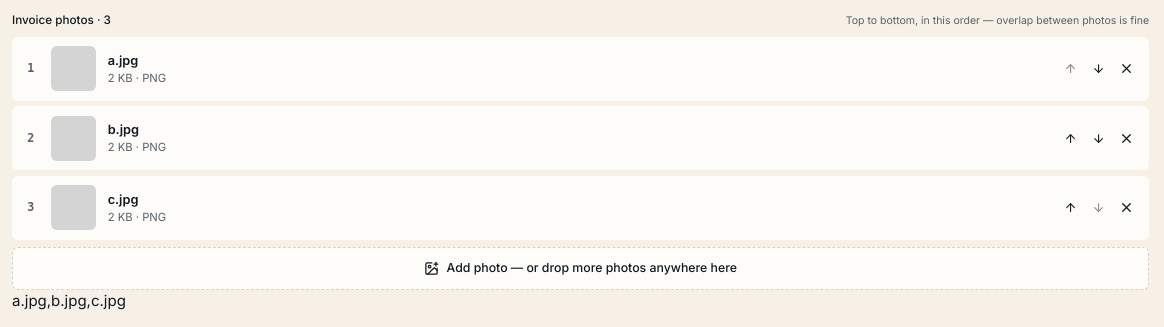
it: multi-photo intake › reorders photos, with the ends pinned
Check: the button named "Move a.jpg up" is disabled, box [1057,56,1083,82]
Check: the button named "Move c.jpg down" is disabled, box [1085,194,1112,221]
Click the button named "Move c.jpg up".
click(1070, 208)  # box [1057,194,1083,221]
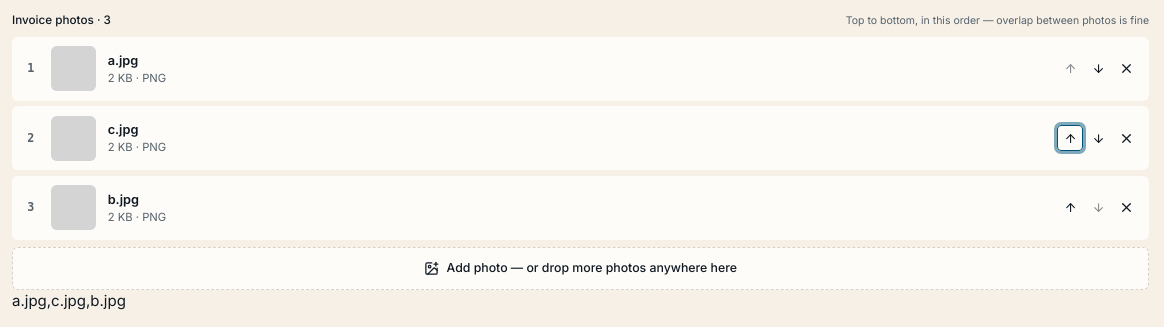
Check: the text with test id "order" reads "a.jpg,c.jpg,b.jpg", box [12,291,126,310]
Click the button named "Move a.jpg down".
click(1098, 69)  # box [1085,56,1112,82]
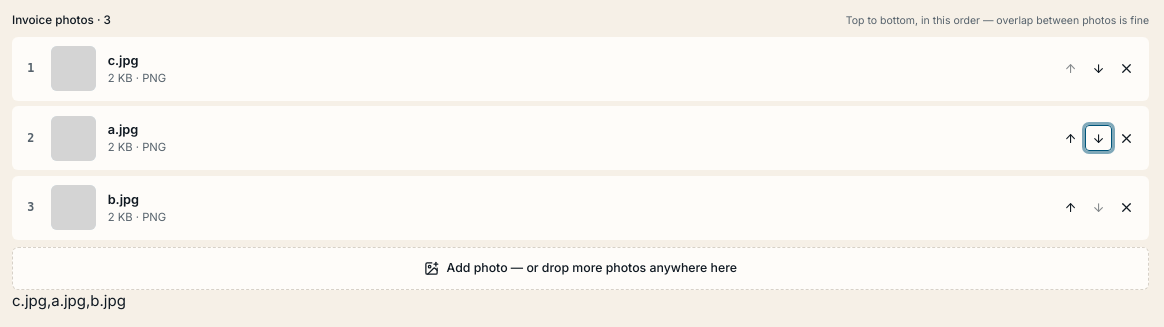
Check: the text with test id "order" reads "c.jpg,a.jpg,b.jpg", box [12,291,126,310]
